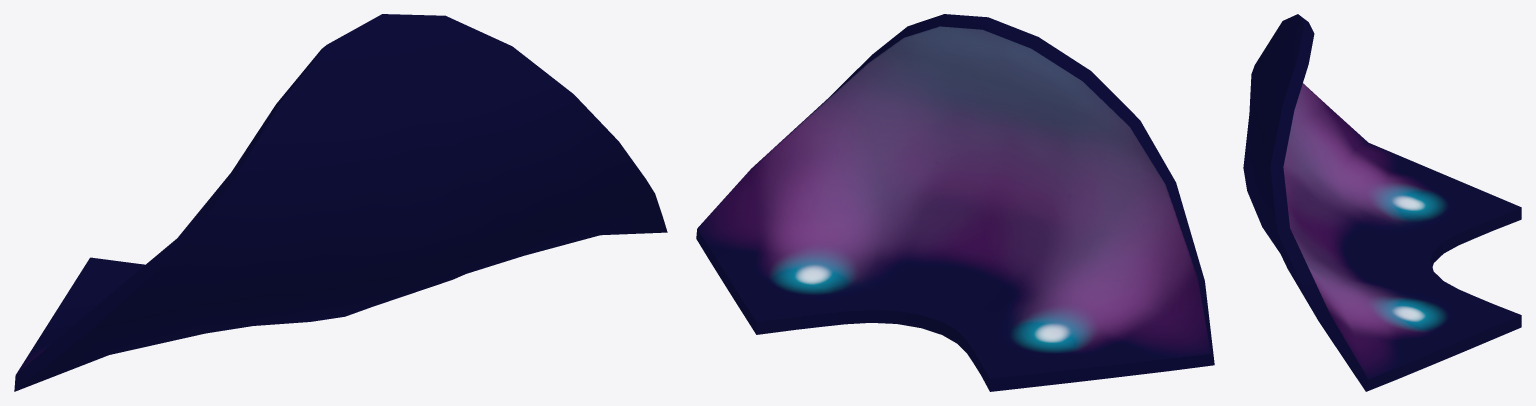
The model's file is urban_concave_corner.gltf.
3 renders of one model, left to right at view 1: azimuth 30°, elevation 25°; view 2: azimuth 150°, elevation 25°; view 3: azimuth 270°, elevation 25°, orthographic. The views are drawn at different scales.
Visible parts, largest first — view 1: urban_concave_corner_glb; view 2: urban_concave_corner_glb; view 3: urban_concave_corner_glb.
Boxes of the visible parts, left/top/right/bottom form: urban_concave_corner_glb: left=14, top=14, right=667, bottom=391; urban_concave_corner_glb: left=696, top=14, right=1214, bottom=391; urban_concave_corner_glb: left=1243, top=14, right=1521, bottom=391.
Size of what is drawn, in the model's own units: 10.12 by 4.89 by 4.97.
Materials: 1 (1 with a texture image).
